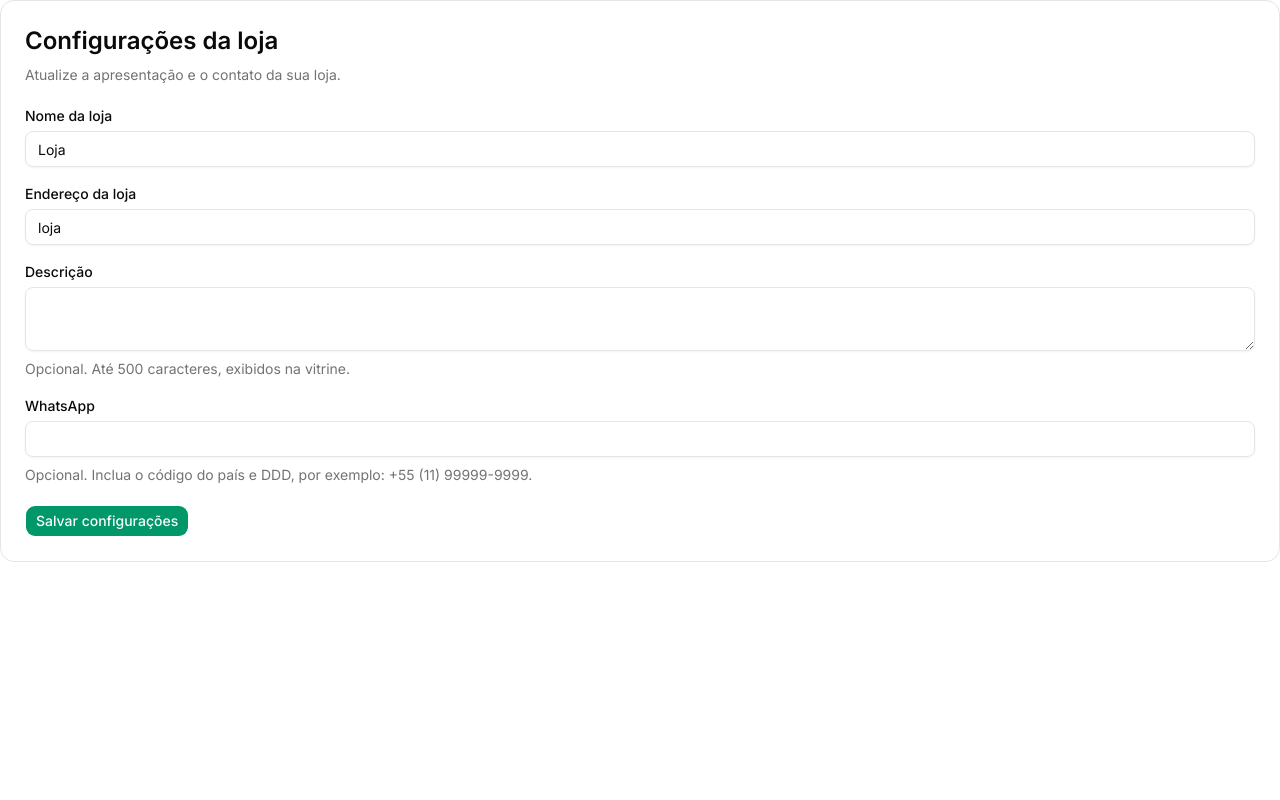
Test case: preserva entrada após erro e permite tentar novamente
Replace the text in the field labelled "Nome da loja" with "Nova Loja" at (640, 149), box [25,131,1255,167]
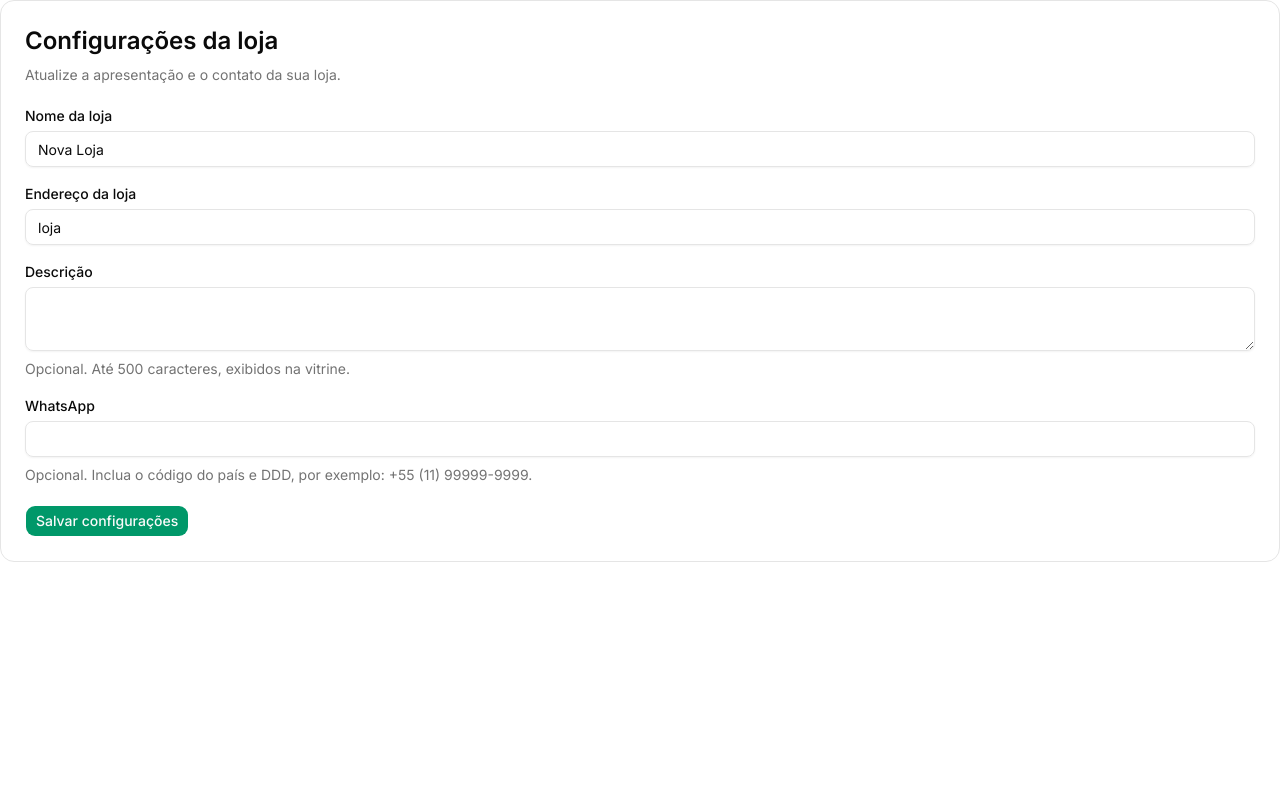
Click the button "Salvar configurações" at (107, 521), box [25,505,189,537]
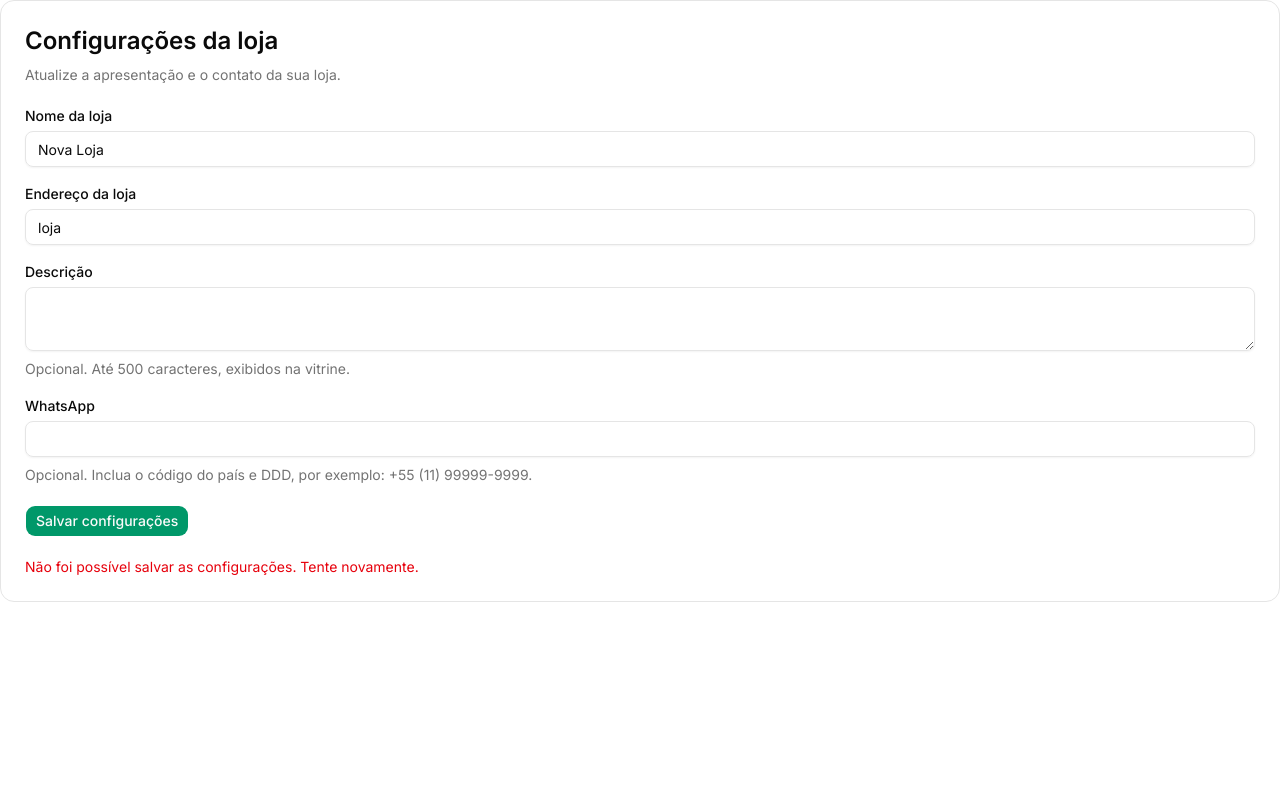
Check: the message reads "Não foi possível salvar as configurações. Tente novamente.", box [25,558,419,575]
Click the button "Salvar configurações" at (107, 521), box [25,505,189,537]
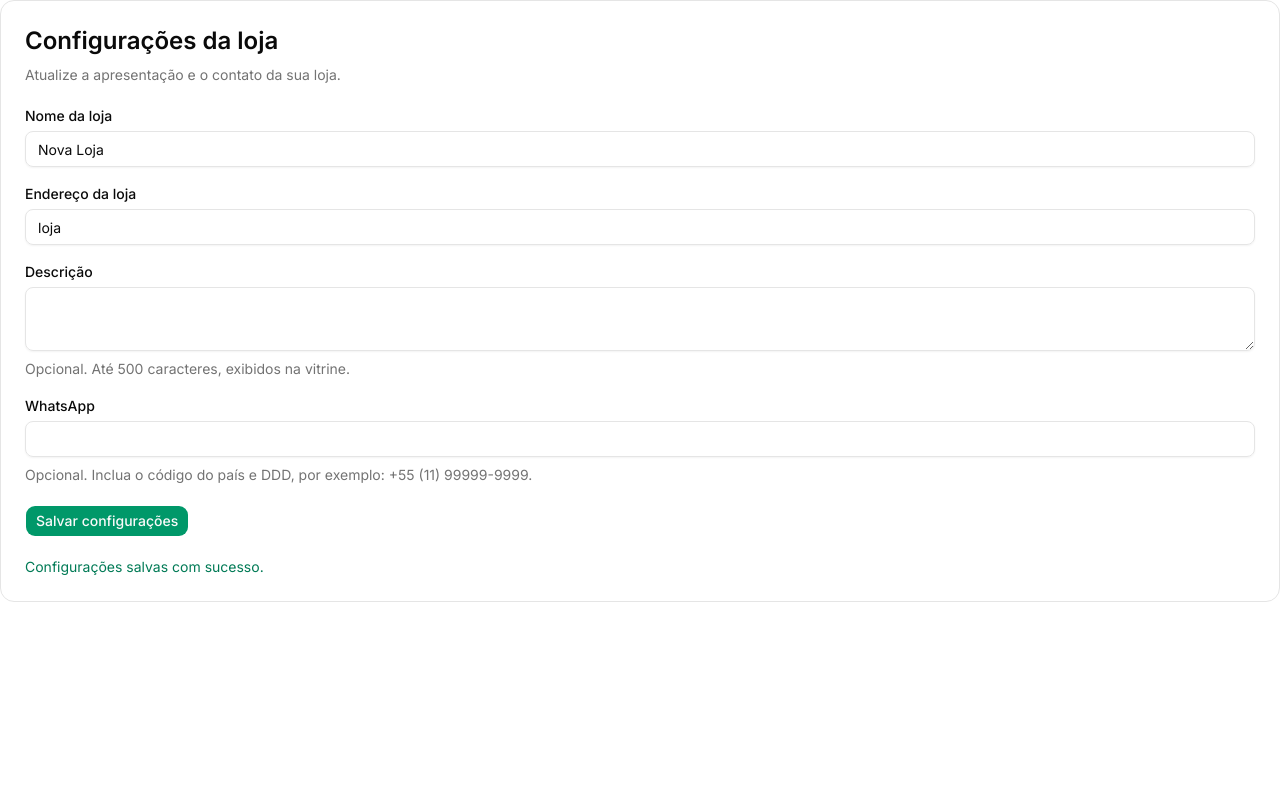
Check: the message shows "Configurações salvas", box [25,558,264,575]
